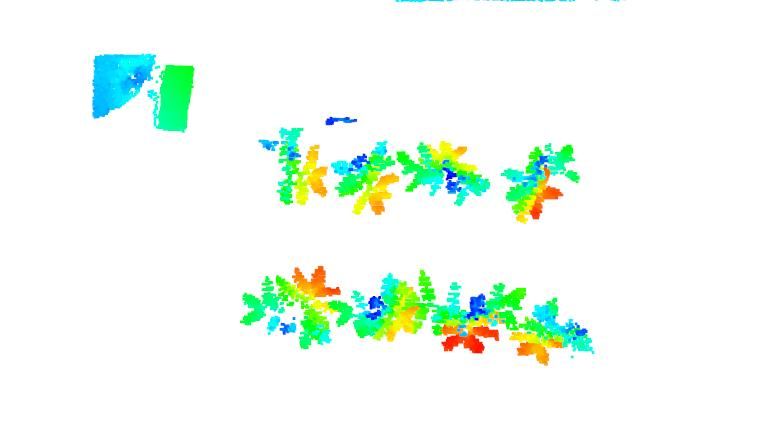chickpea: (242, 265, 338, 350), (426, 276, 526, 354), (332, 269, 436, 340), (499, 139, 583, 222), (399, 140, 493, 206), (510, 297, 596, 365), (261, 124, 329, 206), (331, 138, 398, 217)
